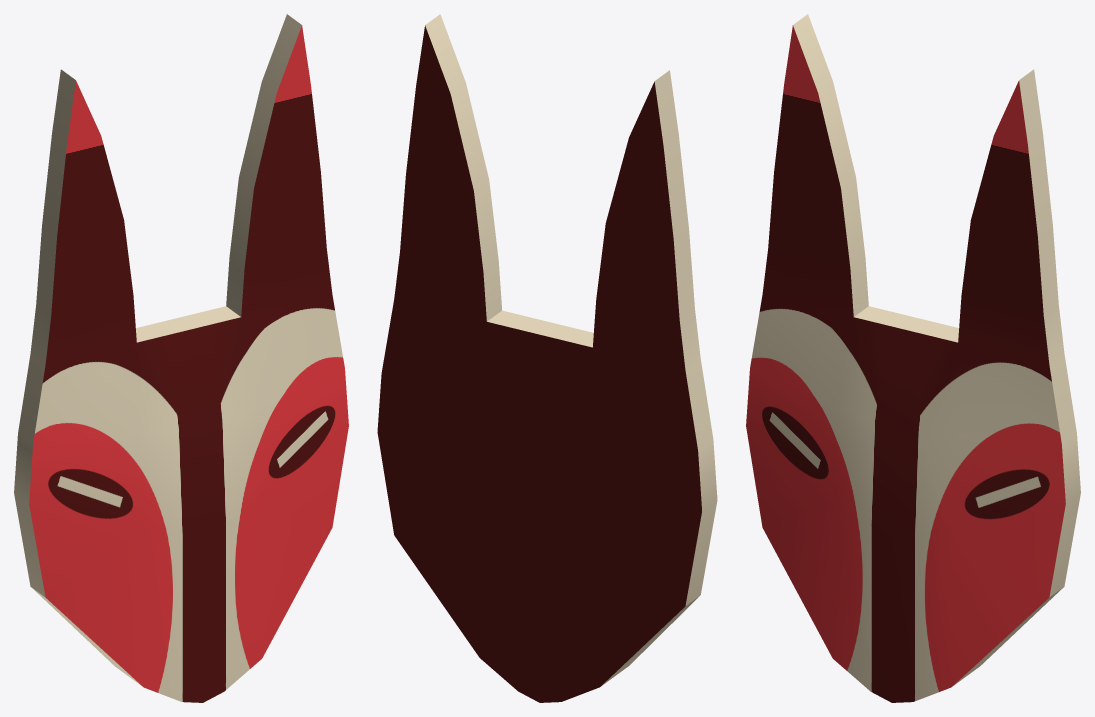
File: mask01.fbx
3 renders of one model, left to right at view 1: azimuth 30°, elevation 25°; view 2: azimuth 150°, elevation 25°; view 3: azimuth 330°, elevation 25°, orthographic.
Parts seen in each view (by area): view 1: mask01; view 2: mask01; view 3: mask01.
Part boxes in pixels (box(x1,y1,x2,y2)): mask01: box(14, 14, 348, 702); mask01: box(377, 14, 717, 702); mask01: box(746, 14, 1080, 702).
Size of the model in its own units: 1.59 by 3.05 by 0.2506.
